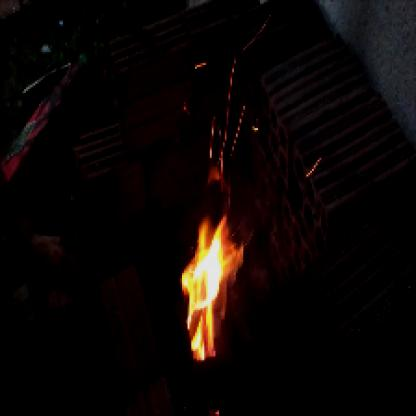Fire: (178, 208, 244, 364)
